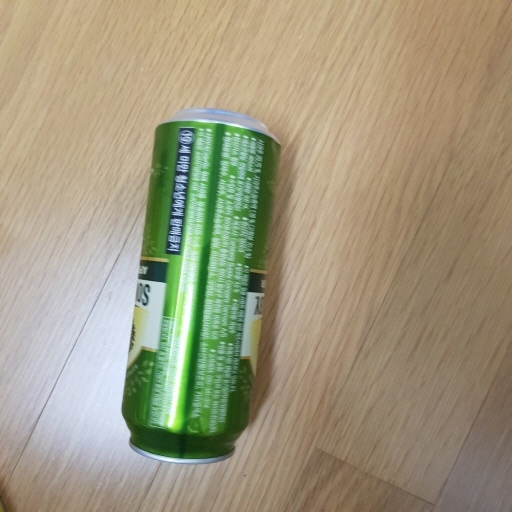Metal_0: (117, 108, 281, 461)
